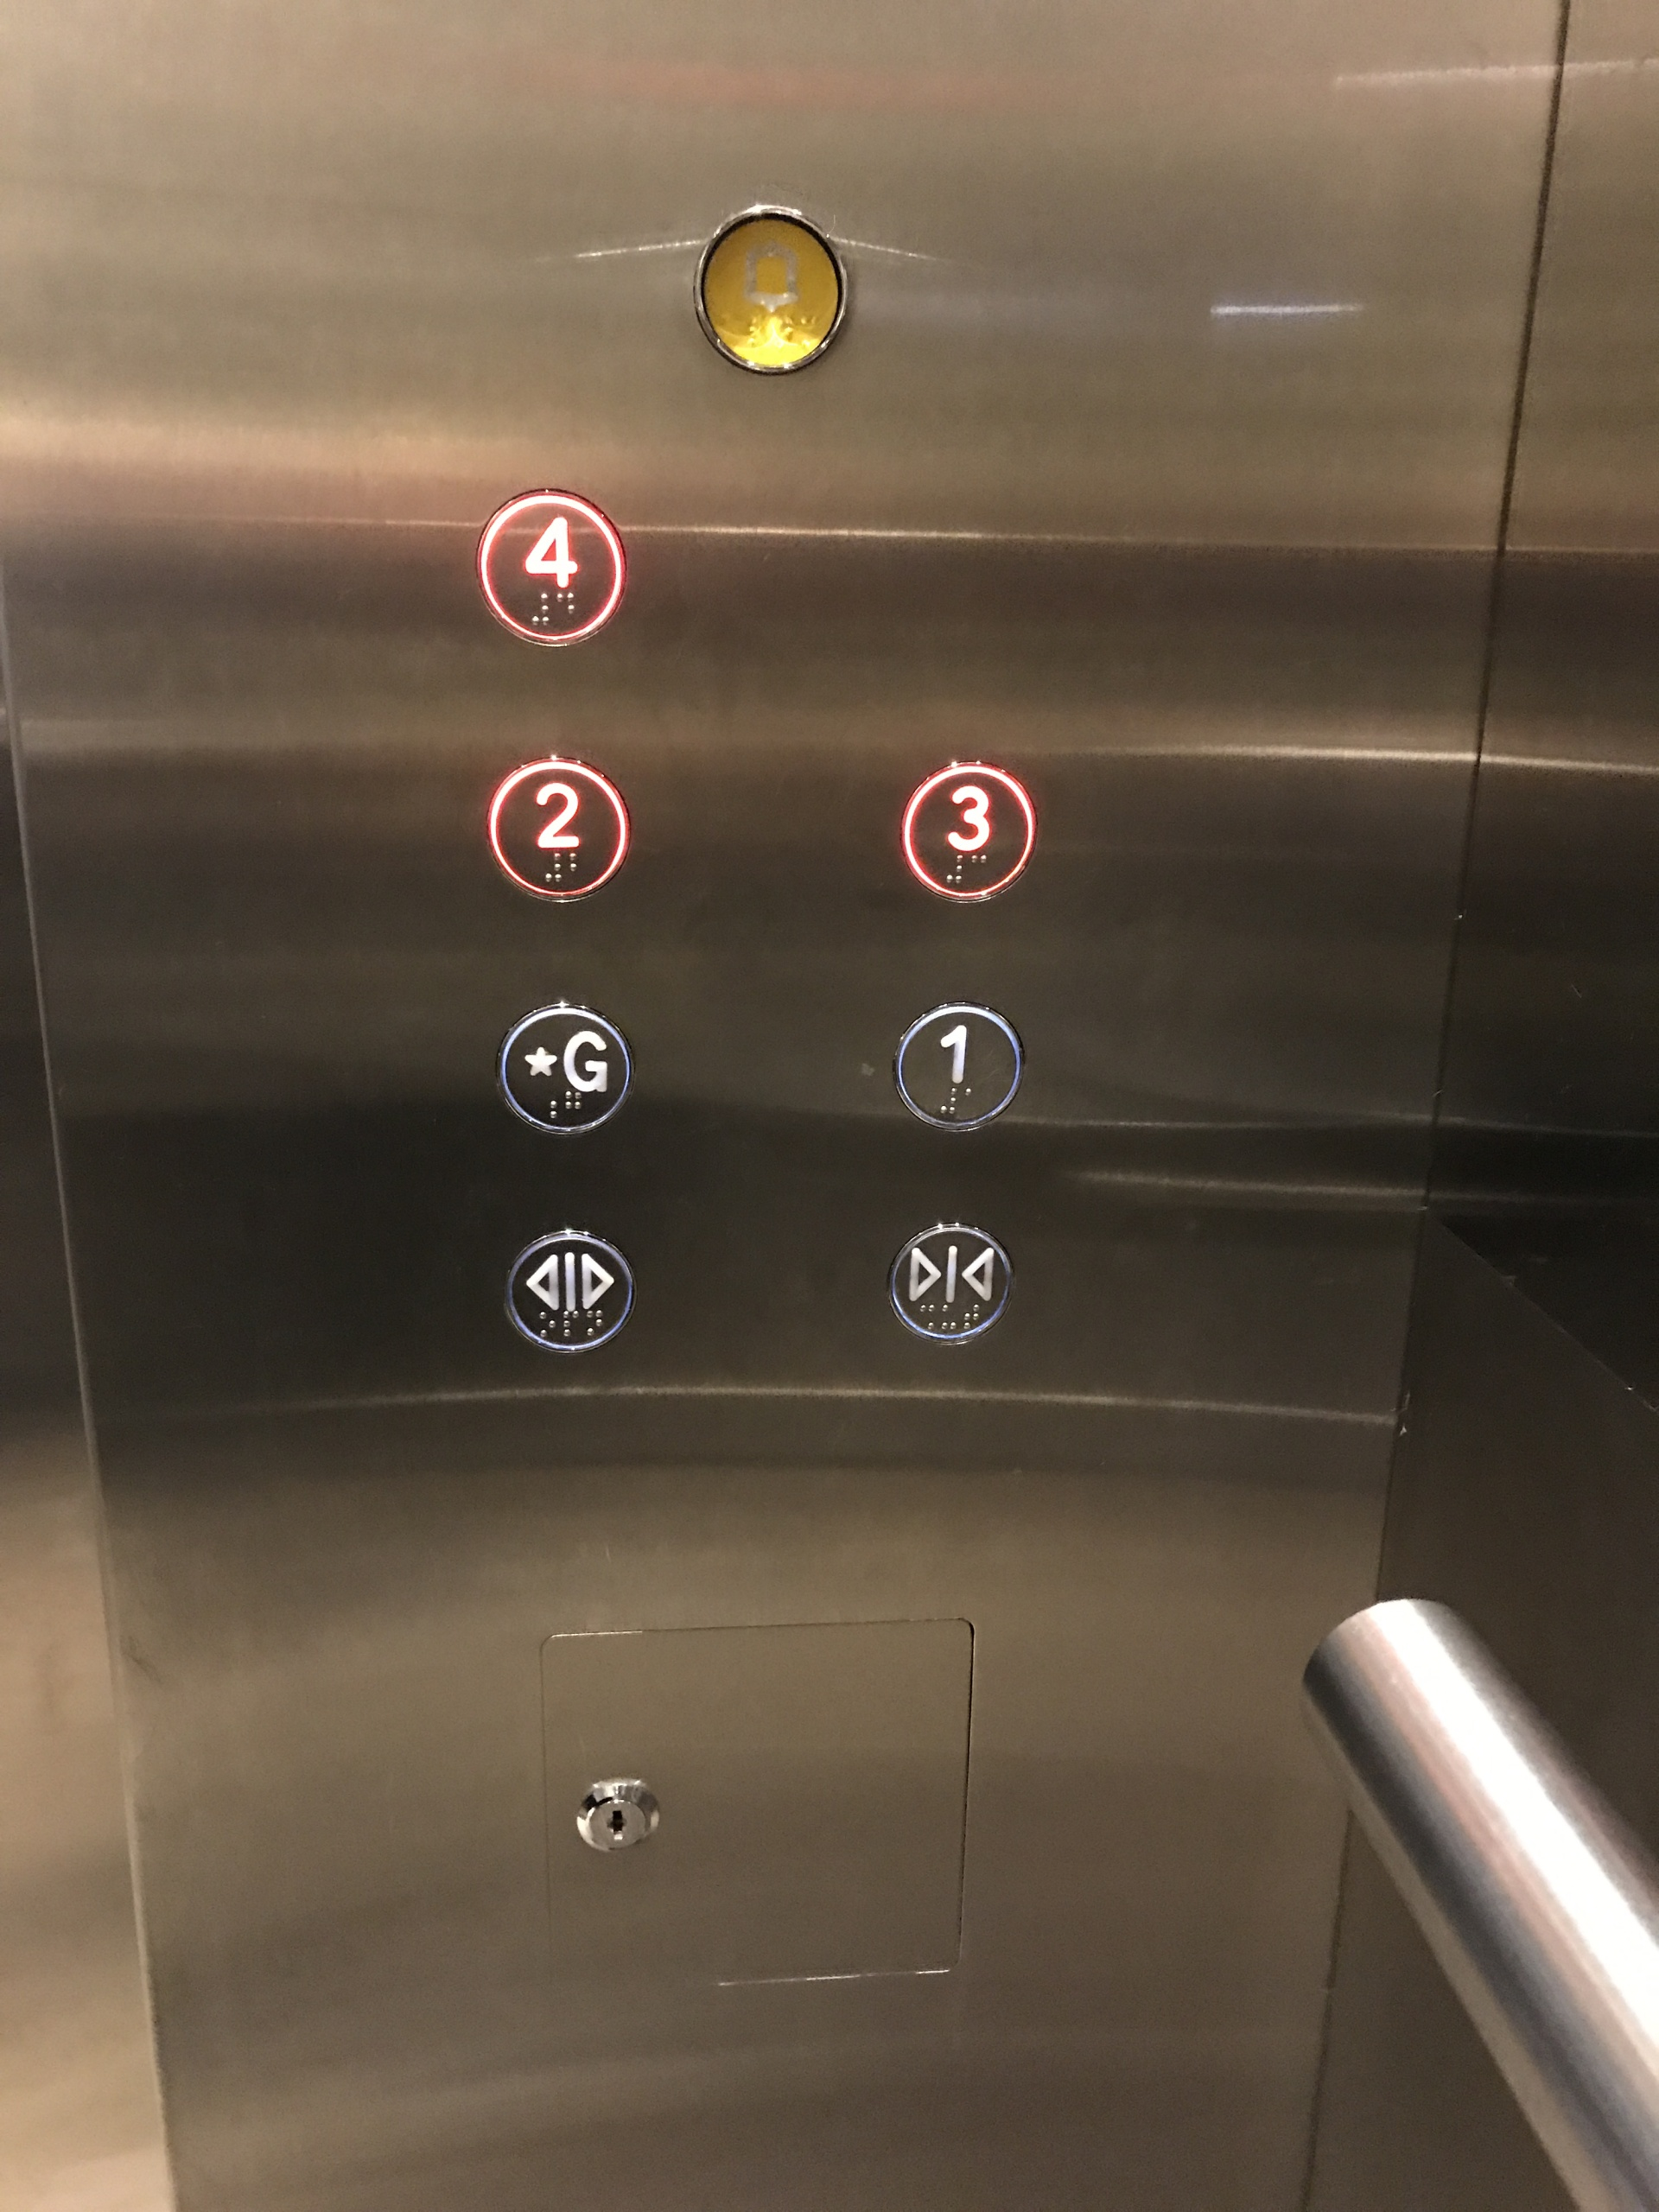1: (887, 998, 1028, 1136)
2: (483, 752, 634, 907)
3: (896, 758, 1039, 906)
4: (472, 482, 631, 651)
alarm: (688, 202, 854, 376)
close: (884, 1219, 1018, 1346)
open: (500, 1224, 636, 1357)
sG: (493, 995, 631, 1136)
